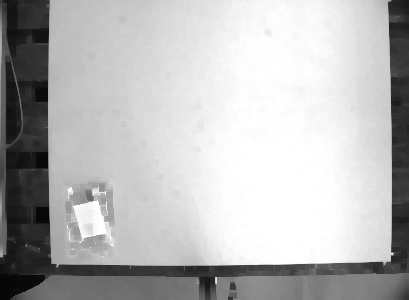t2: (61, 177, 122, 259)
